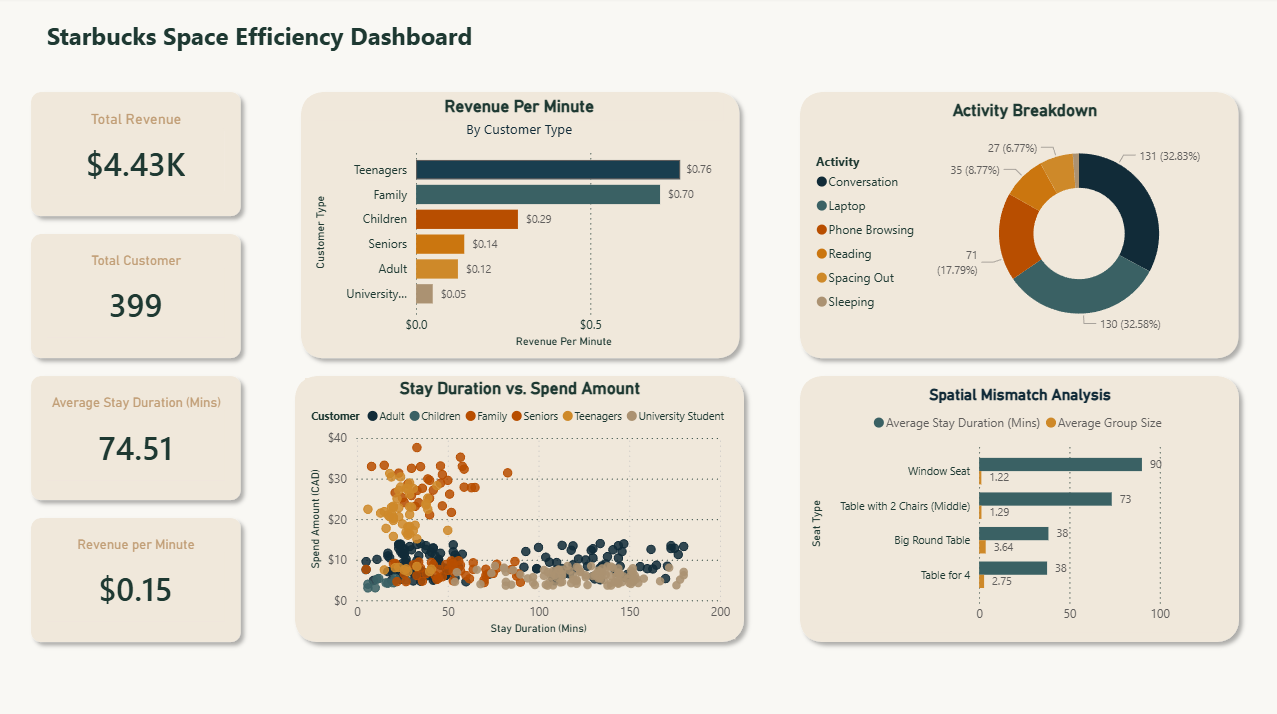

What the dashboard file says about the page in this screenshot:
{"tool":"powerbi","page":{"name":"Page 1","canvas":[1280,720],"ordinal":0},"visuals":[{"type":"shape","box":[24.3,85.6,227.6,142],"z":0},{"type":"textbox","box":[24.3,16.5,474.7,45.7],"z":1000},{"type":"shape","box":[24.3,227.6,227.6,142],"z":2000},{"type":"shape","box":[24.3,369.6,227.6,142],"z":3000},{"type":"shape","box":[24.3,511.6,227.6,142],"z":4000},{"type":"cardVisual","title":"Total Revenue","fields":{"Data":["Sum(starbucks_data.Spend_Amount_CAD)"]},"box":[48.6,113.8,178,84.6],"z":5000},{"type":"cardVisual","title":"Average Stay Duration (Mins)","fields":{"Data":["Avg(starbucks_data.Stay_Duration_Min)"]},"box":[48.6,397.8,178,85.6],"z":6000},{"type":"cardVisual","title":"Total Customer","fields":{"Data":["CountNonNull(starbucks_data.Customer_ID)"]},"box":[48.6,255.8,178,84.6],"z":7000},{"type":"cardVisual","title":"Revenue per Minute","fields":{"Data":["starbucks_data.Dynamic_RPM"]},"box":[48.6,539.8,178,84.6],"z":8000},{"type":"shape","box":[293.7,85.6,456.2,284],"z":9000},{"type":"shape","box":[287.8,369.7,466.6,283.8],"z":10000},{"type":"shape","box":[792.4,369.7,456.6,283.8],"z":11000},{"type":"barChart","title":"Revenue Per Minute","fields":{"Y":["starbucks_data.Measure"],"Category":["starbucks_data.Customer_Type"]},"box":[312.2,99.2,418.2,255.8],"z":12000},{"type":"shape","box":[792.7,85.6,456.2,284],"z":13000},{"type":"donutChart","title":"Activity Breakdown","fields":{"Category":["starbucks_data.Activity"],"Y":["CountNonNull(starbucks_data.Customer_ID)"]},"box":[807.4,101.9,427.7,248.8],"z":14000},{"type":"scatterChart","title":"Stay Duration vs. Spend Amount","fields":{"X":["starbucks_data.Stay_Duration_Min"],"Y":["starbucks_data.Spend_Amount_CAD"],"Series":["starbucks_data.Customer_Type"]},"box":[306.8,380.7,429.7,260.8],"z":15000},{"type":"clusteredBarChart","title":"Spatial Mismatch Analysis","fields":{"Category":["starbucks_data.Seat_Type"],"Y":["Avg(starbucks_data.Stay_Duration_Min)","Avg(starbucks_data.Group_Size)"]},"box":[807.4,387.7,427.7,246.8],"z":16000}]}

Visuals, with their boxes in screenshot pixels (x1, y1, x2, y2), scaled from the page's 1280x720 canvas onto the 1277x714 screenshot:
shape: detection(24, 85, 251, 226)
textbox: detection(24, 16, 498, 62)
shape: detection(24, 226, 251, 367)
shape: detection(24, 367, 251, 507)
shape: detection(24, 507, 251, 648)
"Total Revenue" cardVisual: detection(48, 113, 226, 197)
"Average Stay Duration (Mins)" cardVisual: detection(48, 394, 226, 479)
"Total Customer" cardVisual: detection(48, 254, 226, 338)
"Revenue per Minute" cardVisual: detection(48, 535, 226, 619)
shape: detection(293, 85, 748, 367)
shape: detection(287, 367, 753, 648)
shape: detection(791, 367, 1246, 648)
"Revenue Per Minute" barChart: detection(311, 98, 729, 352)
shape: detection(791, 85, 1246, 367)
"Activity Breakdown" donutChart: detection(806, 101, 1232, 348)
"Stay Duration vs. Spend Amount" scatterChart: detection(306, 378, 735, 636)
"Spatial Mismatch Analysis" clusteredBarChart: detection(806, 384, 1232, 629)
